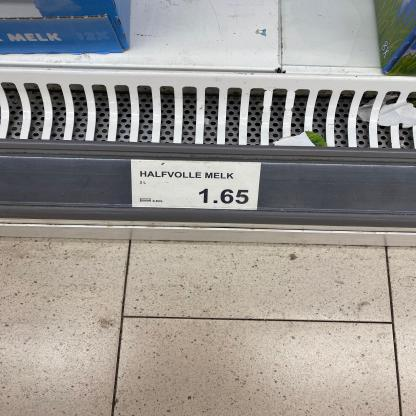prtg: (132, 160, 262, 211)
